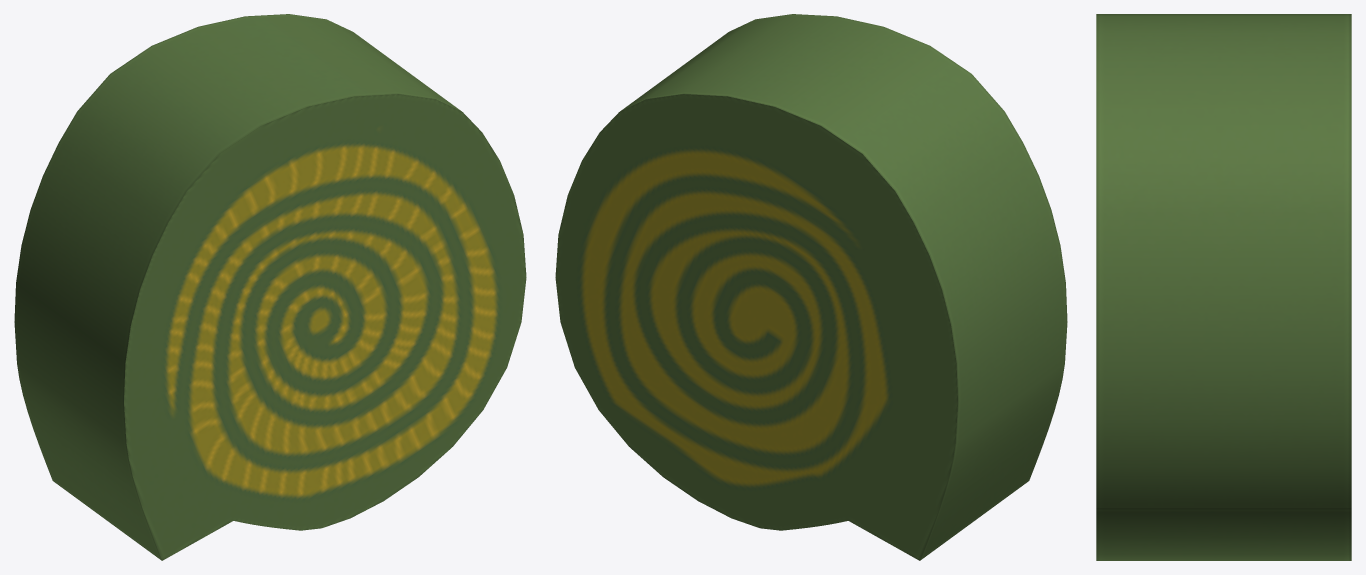
The model's file is rollingshell_fbx.fbx.
3 renders of one model, left to right at view 1: azimuth 30°, elevation 25°; view 2: azimuth 150°, elevation 25°; view 3: azimuth 270°, elevation 25°, orthographic. The views are drawn at different scales.
Parts seen in each view (by area): view 1: rollingshell; view 2: rollingshell; view 3: rollingshell.
Part boxes in pixels (x1,y1,x2,y2): rollingshell: (14, 14, 526, 560); rollingshell: (555, 14, 1067, 560); rollingshell: (1096, 14, 1351, 560).
Bounding box in the file's own units: 62.24 × 62.79 × 29.3.
